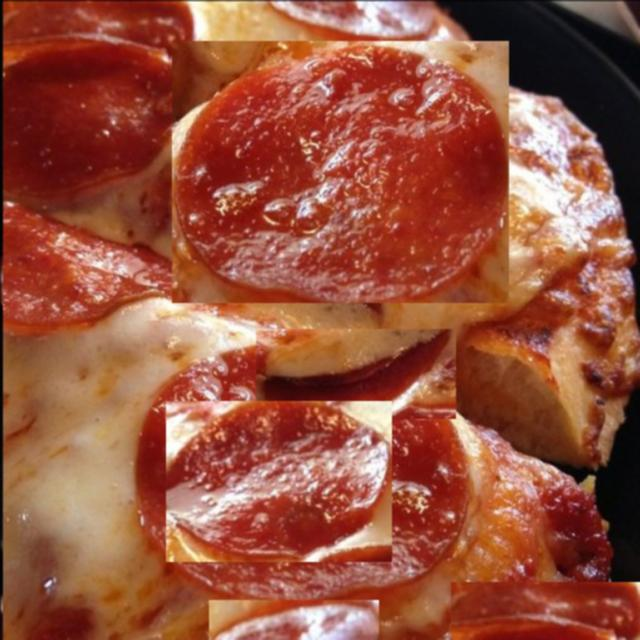pepperoni: (171, 40, 508, 302), (165, 400, 391, 561), (454, 431, 640, 604), (448, 314, 640, 442), (255, 328, 455, 418), (450, 581, 640, 640), (208, 599, 378, 640)
pizza: (2, 0, 640, 640)
